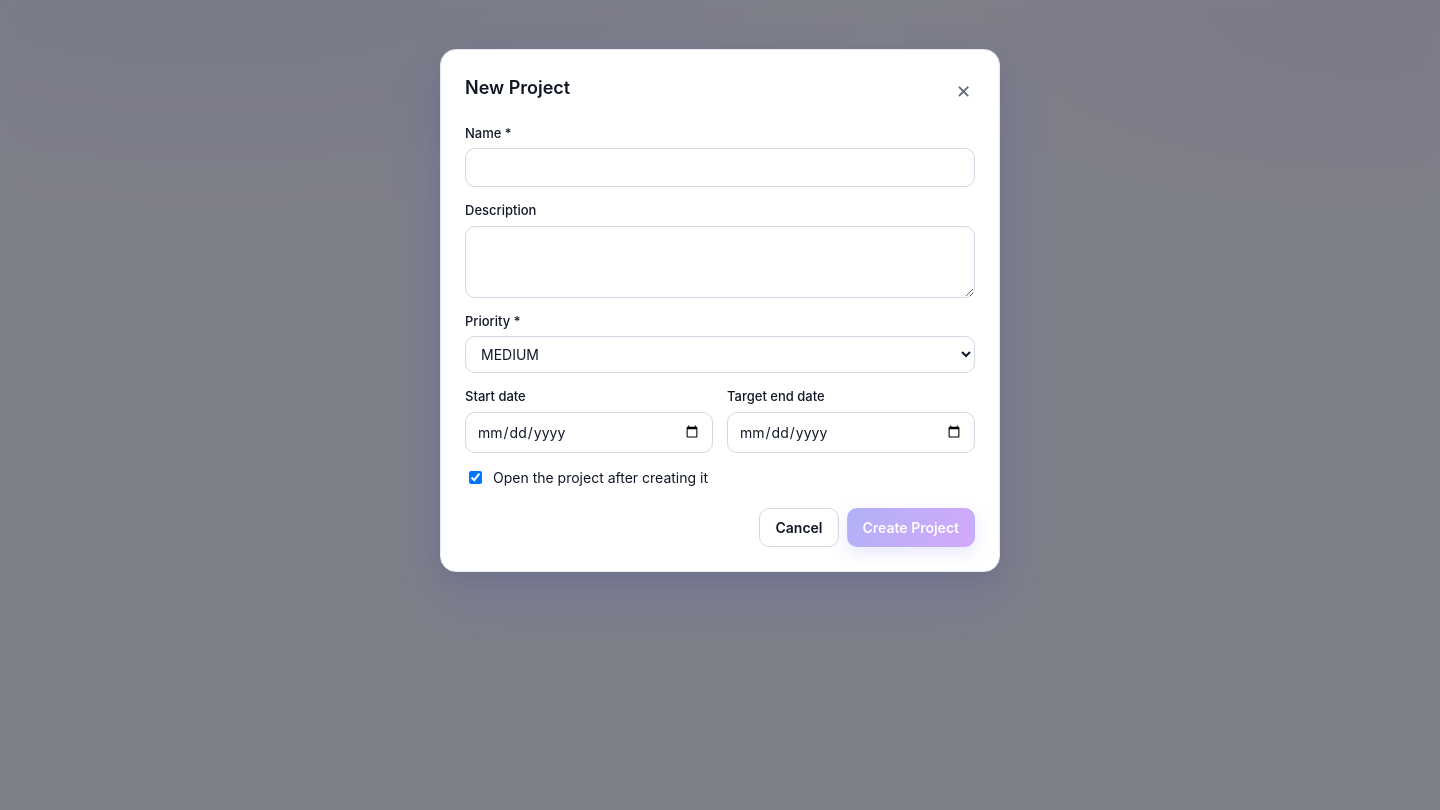
CreateProjectDialog › shows the backend validation message on failure instead of a generic error
Type "x" into the field labelled "Name *" at (720, 168), box left=465, top=148, right=975, bottom=187
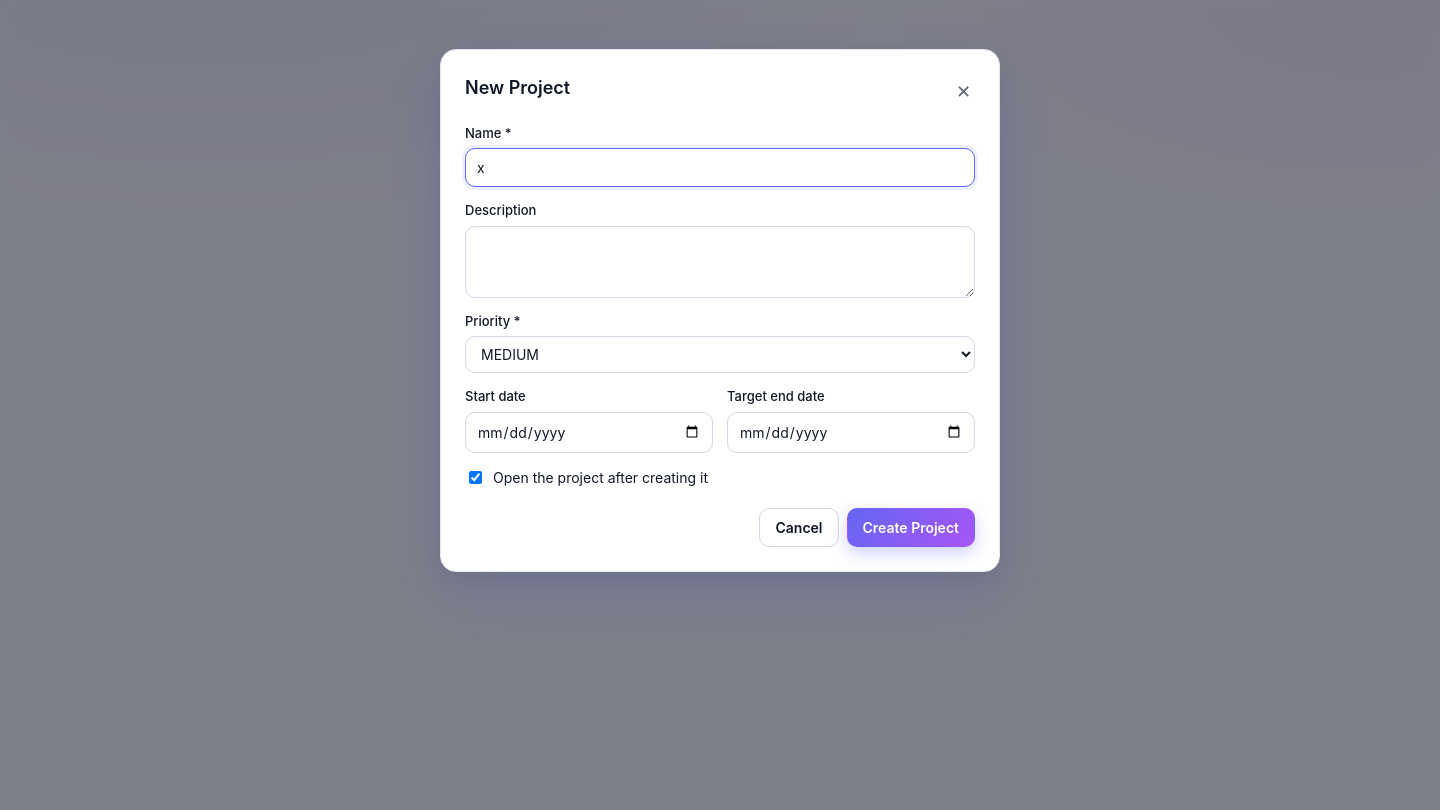
Click the button "Create Project" at (911, 527), box left=846, top=508, right=975, bottom=547
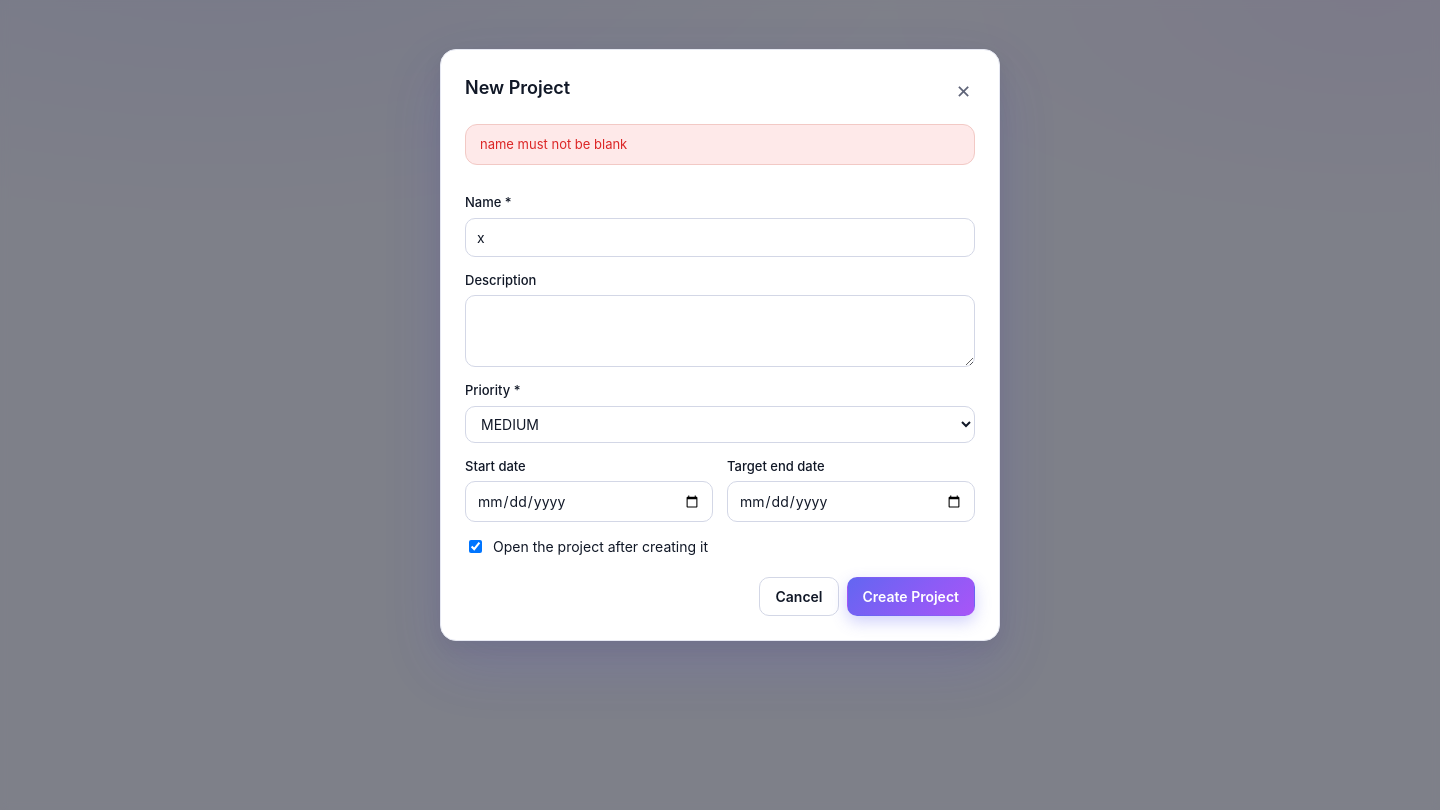
Result: the text "name must not be blank" is shown at left=465, top=124, right=975, bottom=165
